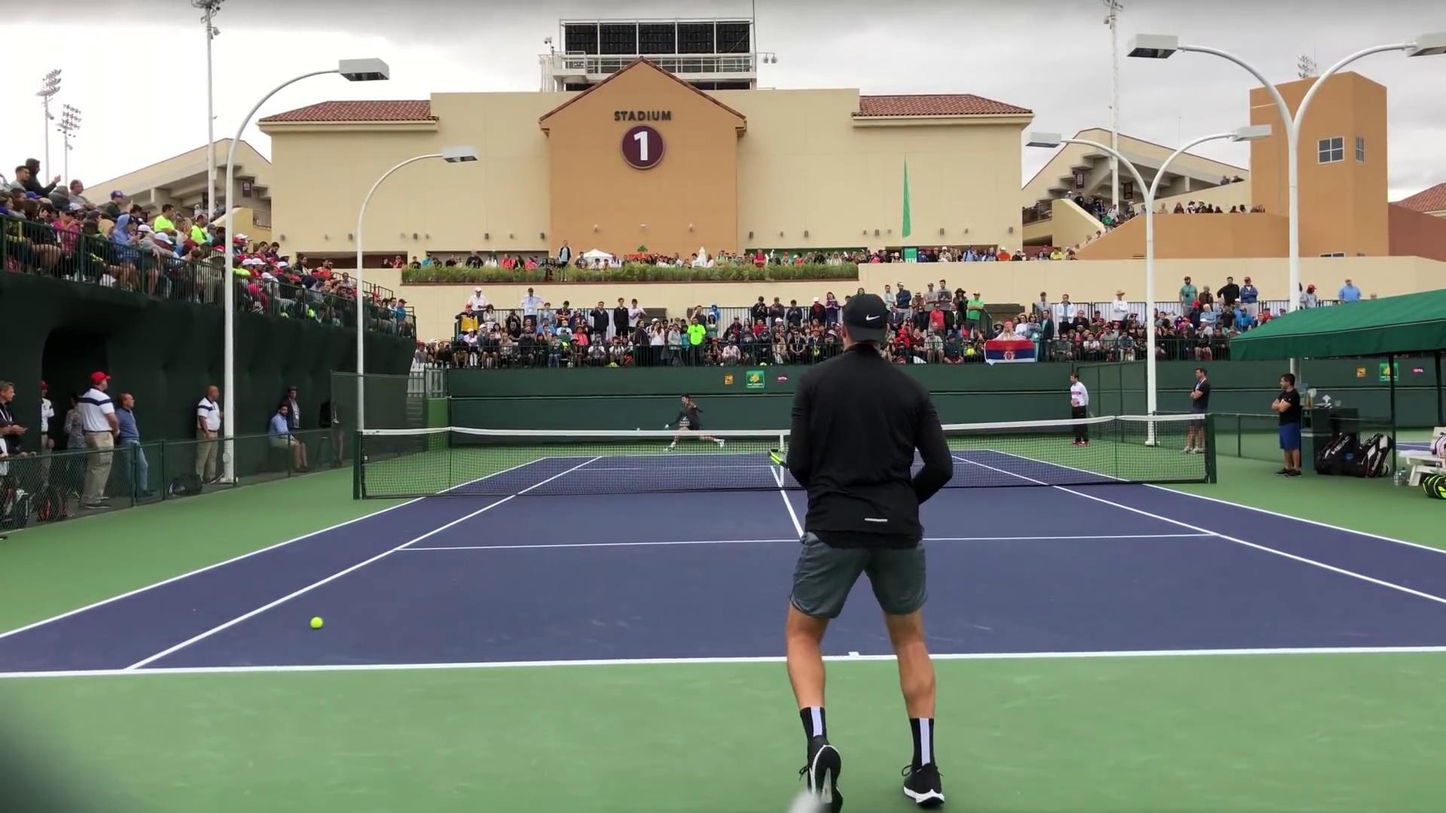ball: (309, 617, 323, 629), (635, 427, 641, 431)
